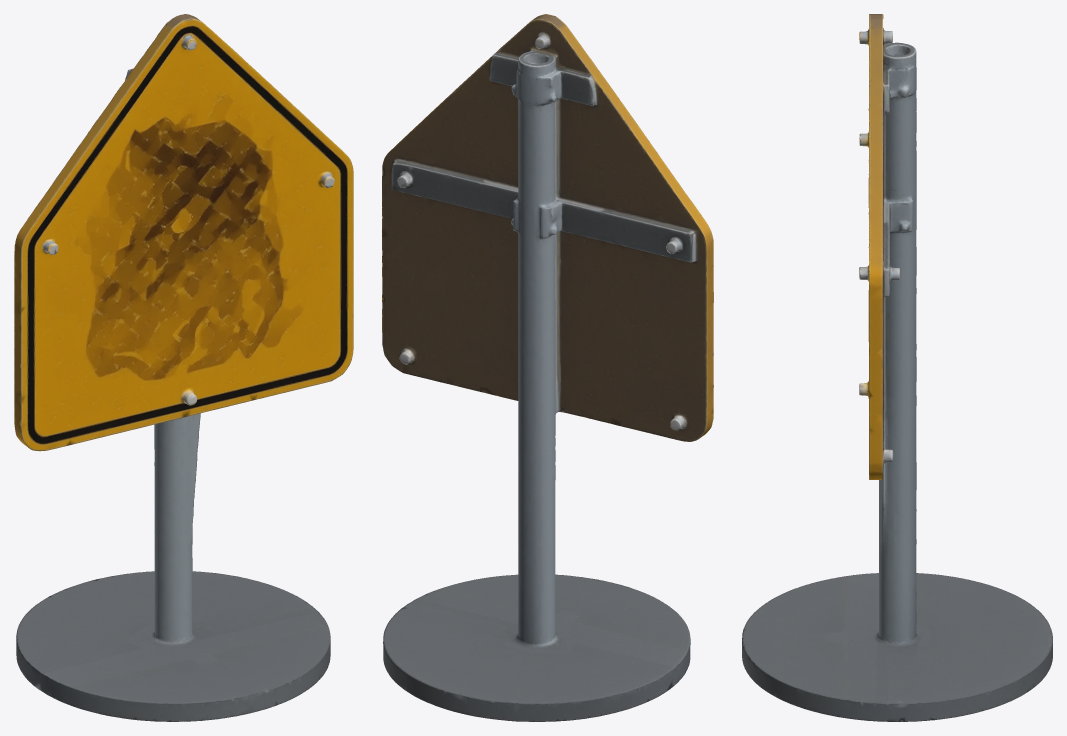
The model's file is transicao_placa.glb.
The picture shows the model from 3 angles, left to right: view 1: azimuth 30°, elevation 25°; view 2: azimuth 150°, elevation 25°; view 3: azimuth 270°, elevation 25°; orthographic projection. The views are drawn at different scales.
Size of the model in its own units: 1.02 by 1.9 by 0.836.
Materials: 1 (1 with a texture image).
